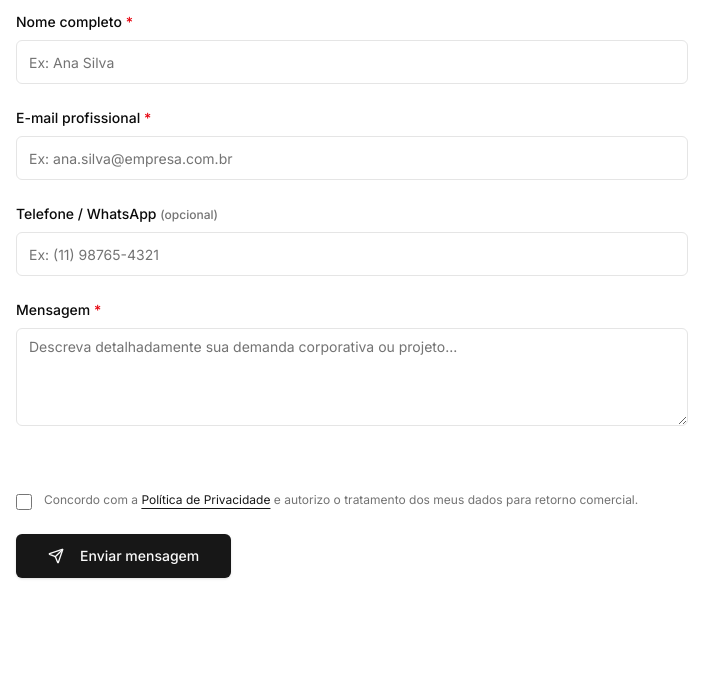
it: ContactForm Component (src/components/shared/contact-form/contact-form.tsx) › submits valid form data and renders success alert
The image size is (705, 676).
Type "Mariana Costa" into the field labelled "Nome completo *" at (352, 62), box [16,40,688,84]
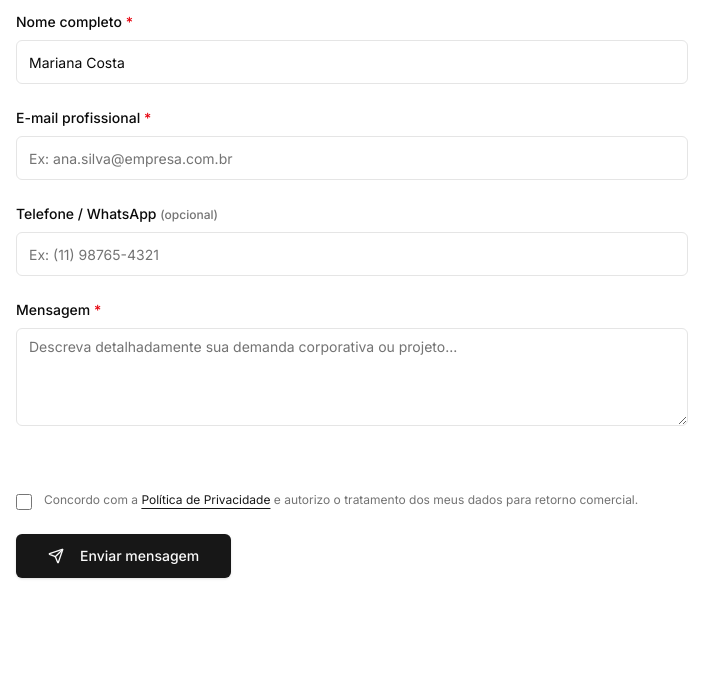
Type "mariana@exemplo.com" into the field labelled "E-mail profissional *" at (352, 158), box [16,136,688,180]
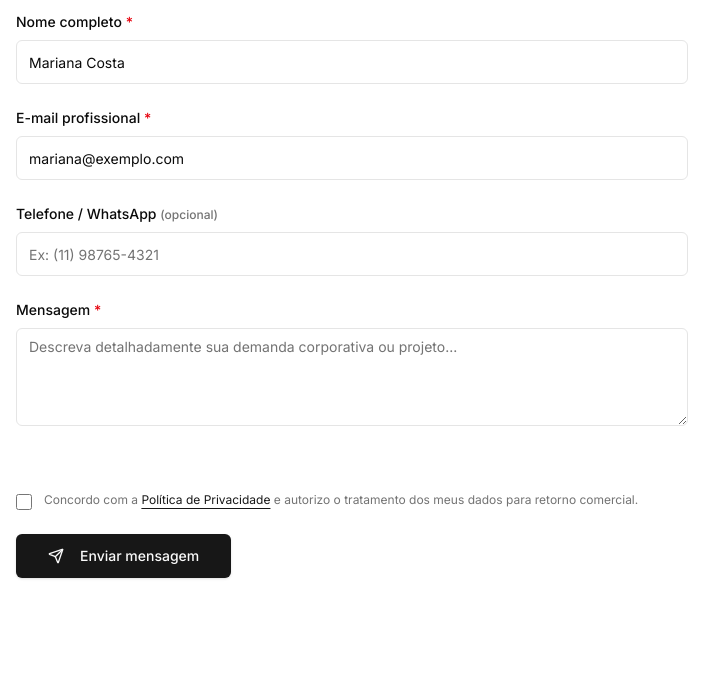
Replace the text in the text box labelled "Mensagem *" with "Mensagem detalhada sobre serviços de consultoria técnica." at (352, 377), box [16,328,688,426]
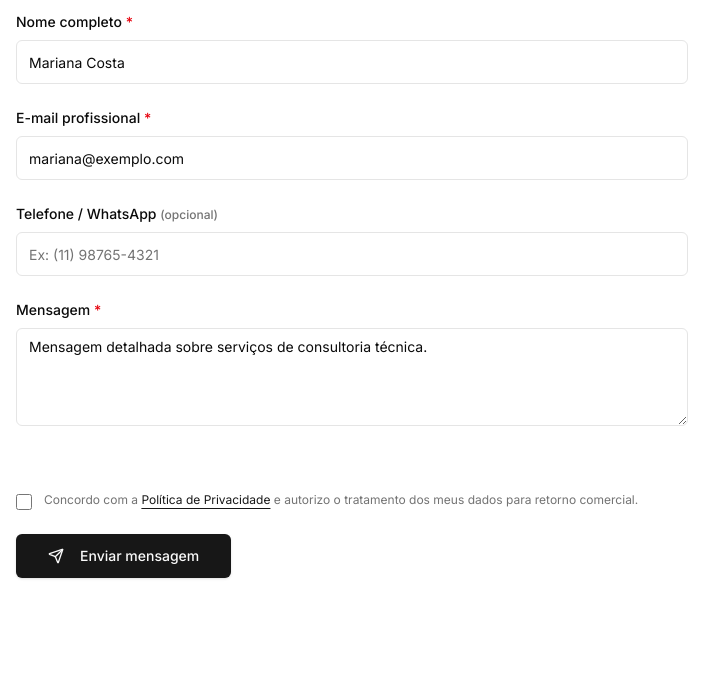
Click the button "Enviar mensagem" at (124, 556), box [16,534,231,578]
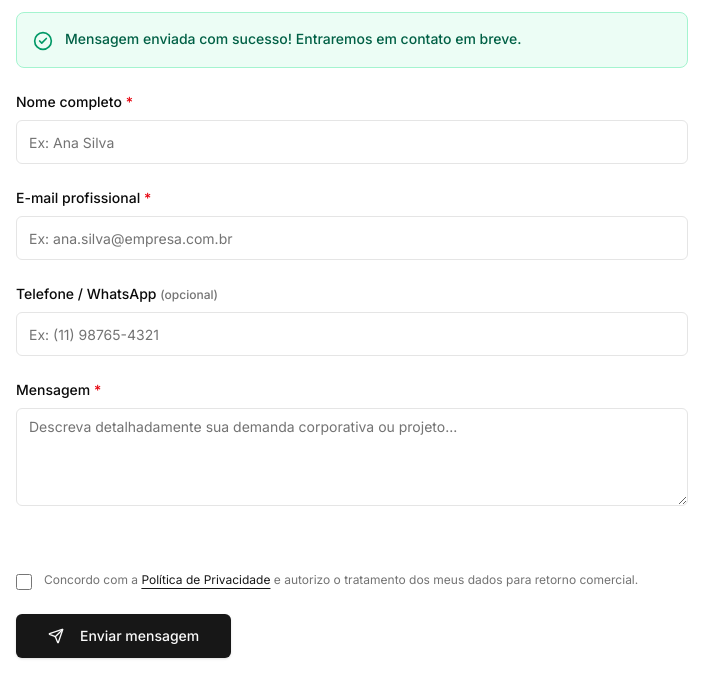
Now the message shows "Mensagem enviada com sucesso", box [65,30,522,47]
